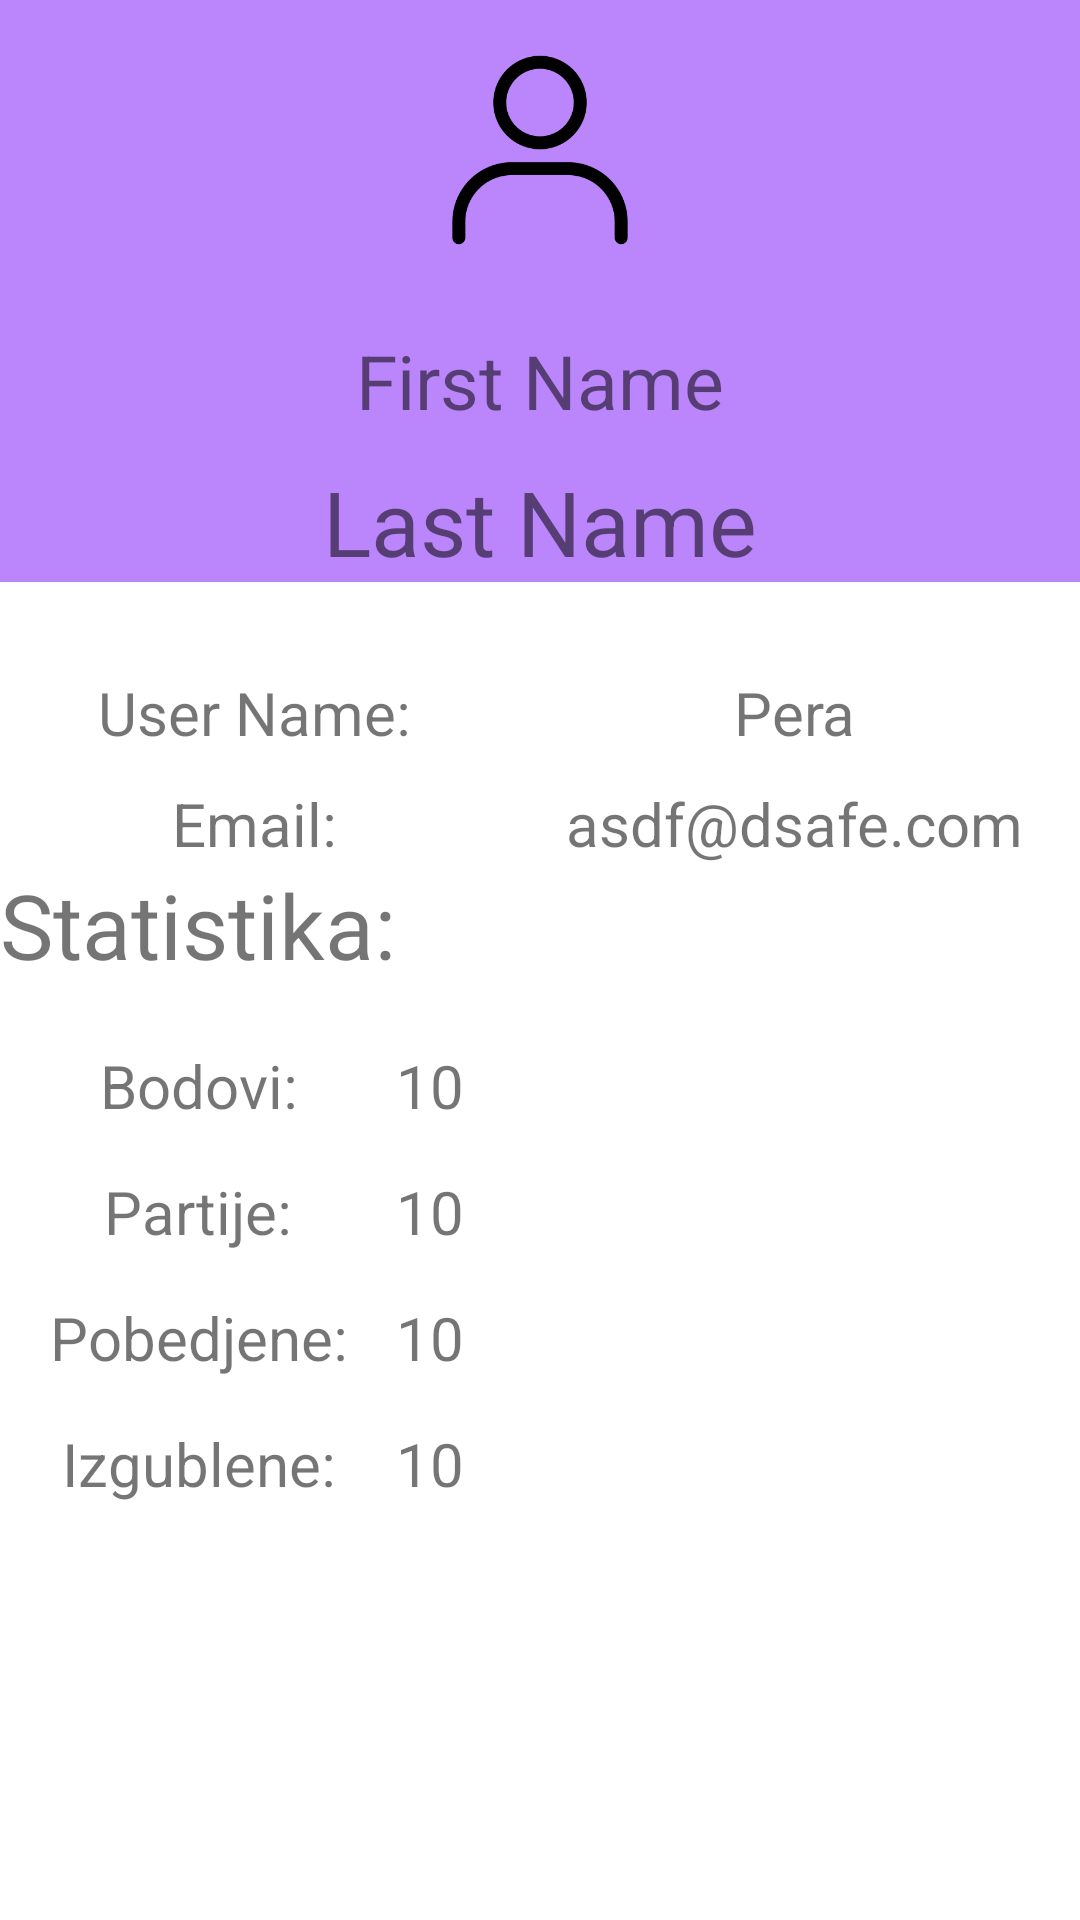

Where icons sit on this 1080*1920 app screen, as (x1=x1, y1=y1, x2=x2, y2=y2):
person: (x1=452, y1=55, x2=628, y2=245)
